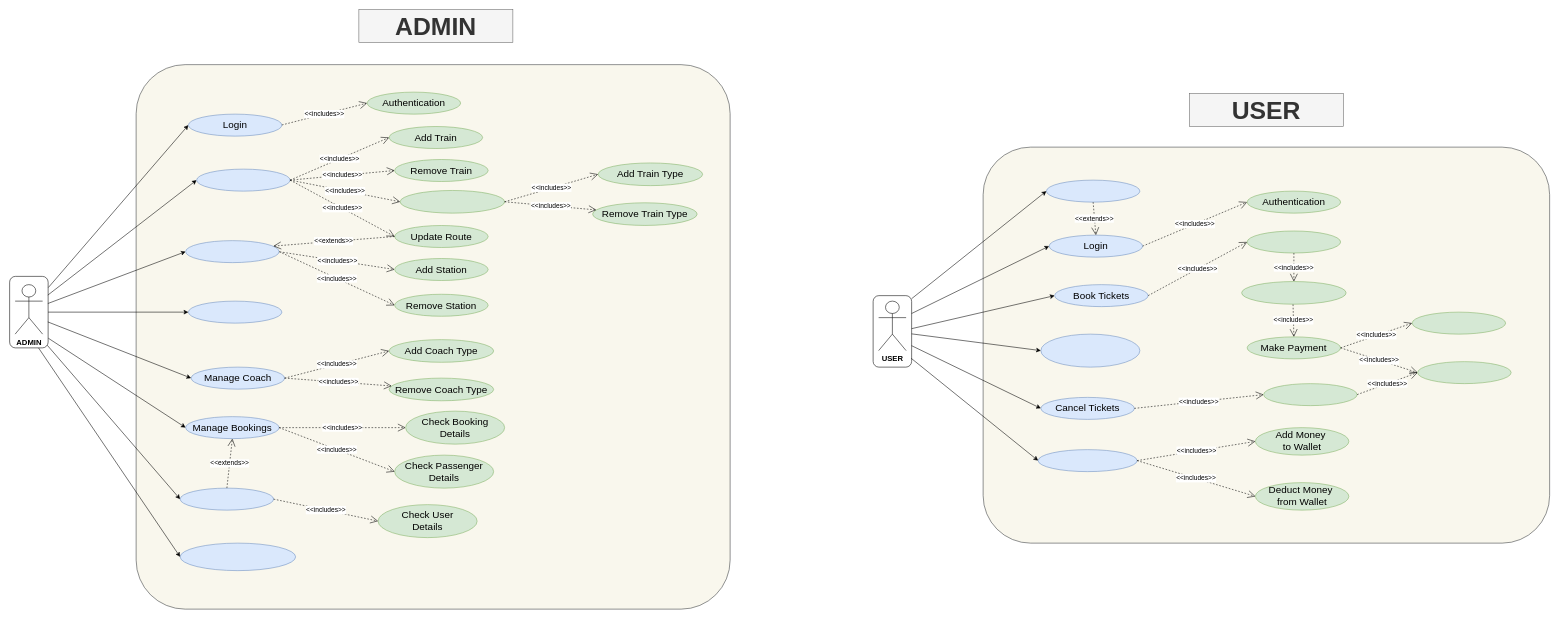
Image size: 1559x619. Some labels were removed from this diagram. The shapes that lost their labels are listed below. From the top down, each one's centre as x and y in pixels, then its label:
At point (243, 180): "Manage Trains".
At point (1093, 191): "Register".
At point (452, 201): "Manage Train Type".
At point (232, 251): "Manage Stations".
At point (1294, 241): "Search Trains".
At point (235, 312): "Manage Fare".
At point (1293, 292): "Add Passengers".
At point (1459, 323): "Print Ticket".
At point (1090, 350): "Check Booking Status".
At point (1464, 372): "Update Wallet".
At point (1310, 394): "get Refund".
At point (1087, 460): "Wallet Management".
At point (227, 499): "Manage Users".
At point (238, 557): "Check All Transactions".
